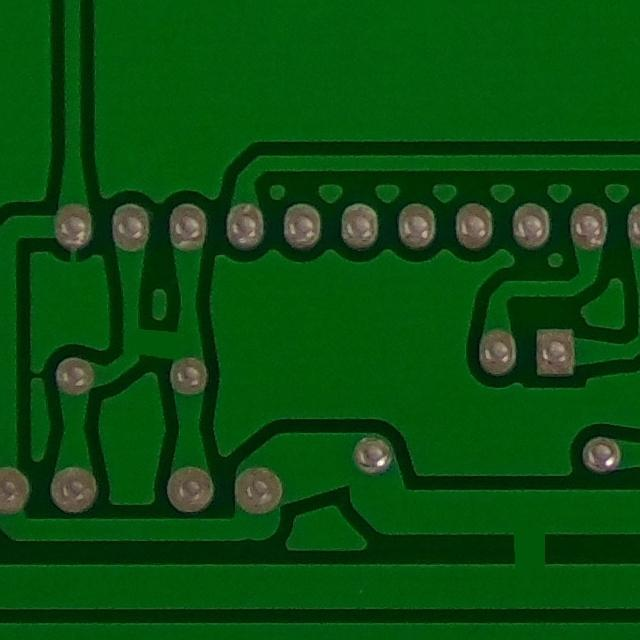short: (495, 507, 573, 585), (119, 307, 197, 380)
